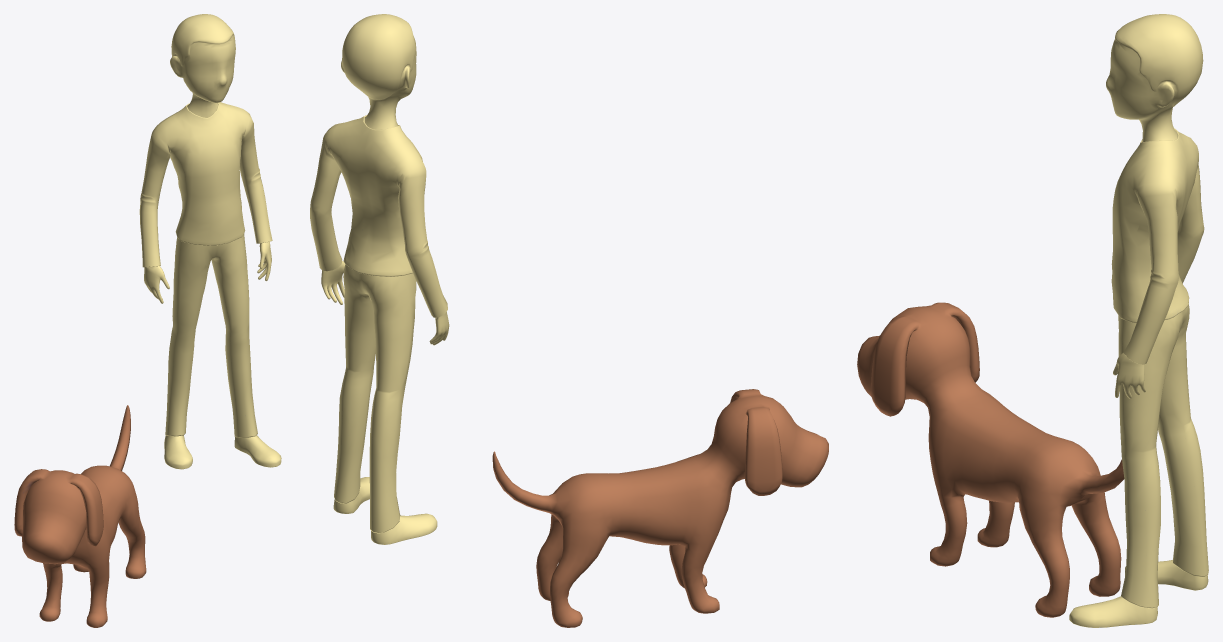
The model's file is HumanandDog2.glb.
3 renders of one model, left to right at view 1: azimuth 30°, elevation 25°; view 2: azimuth 150°, elevation 25°; view 3: azimuth 270°, elevation 25°, orthographic. The views are drawn at different scales.
Parts seen in each view (by area): view 1: mesh_id32, mesh_id27; view 2: mesh_id32, mesh_id27; view 3: mesh_id32, mesh_id27.
Boxes of the visible parts, x1,y1,x2,y2 form: mesh_id32: (139,14,281,469); mesh_id27: (14,405,146,627); mesh_id32: (310,14,449,544); mesh_id27: (492,389,828,627); mesh_id32: (1069,14,1208,627); mesh_id27: (857,302,1124,617).
Size of the model in its own units: 0.4291 by 0.6074 by 0.2905.
2 materials, 2 textured.
